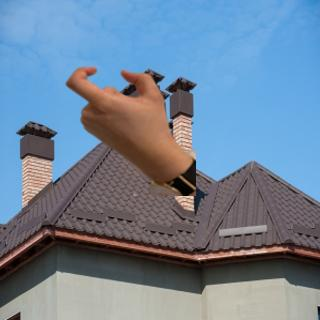HATE: (55, 58, 175, 164)
